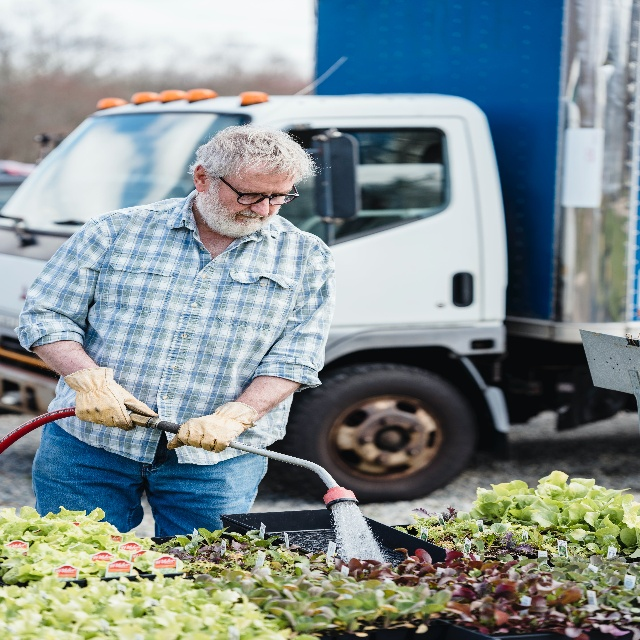Gafas: (218, 176, 299, 206)
Guantes: (64, 367, 158, 431), (166, 401, 258, 453)
